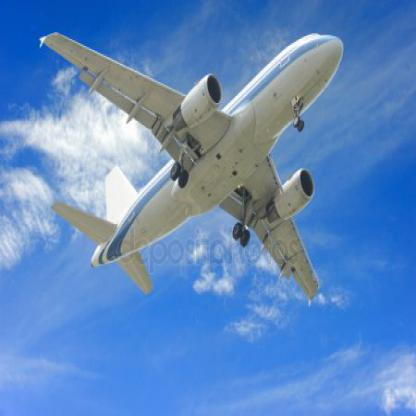CIV_Plane: (29, 25, 345, 329)
